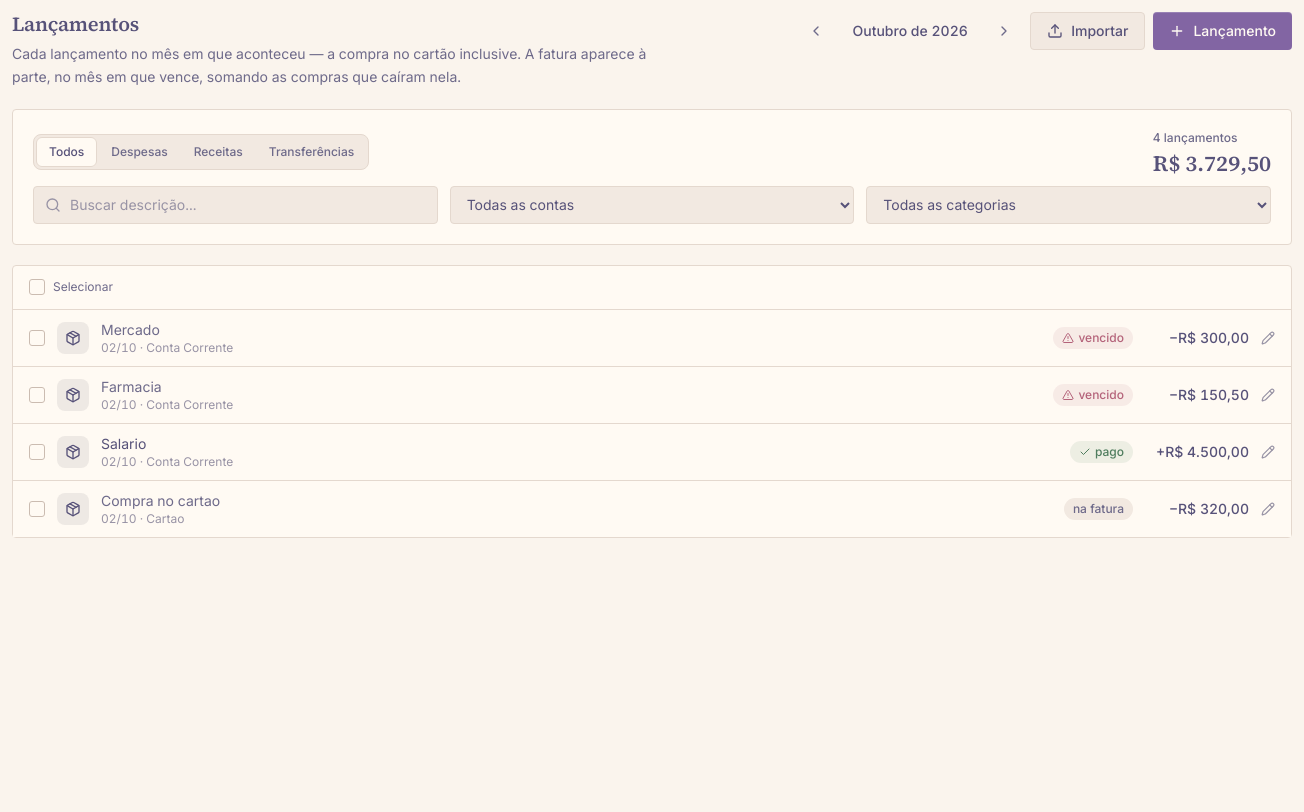
Test case: seleção de lançamentos › compra no cartão em aberto fica de fora, e a tela diz isso
Click the checkbox named "Selecionar Compra no cartao, 02/10, R$ 320,00" at (37, 508), box [29,500,45,516]
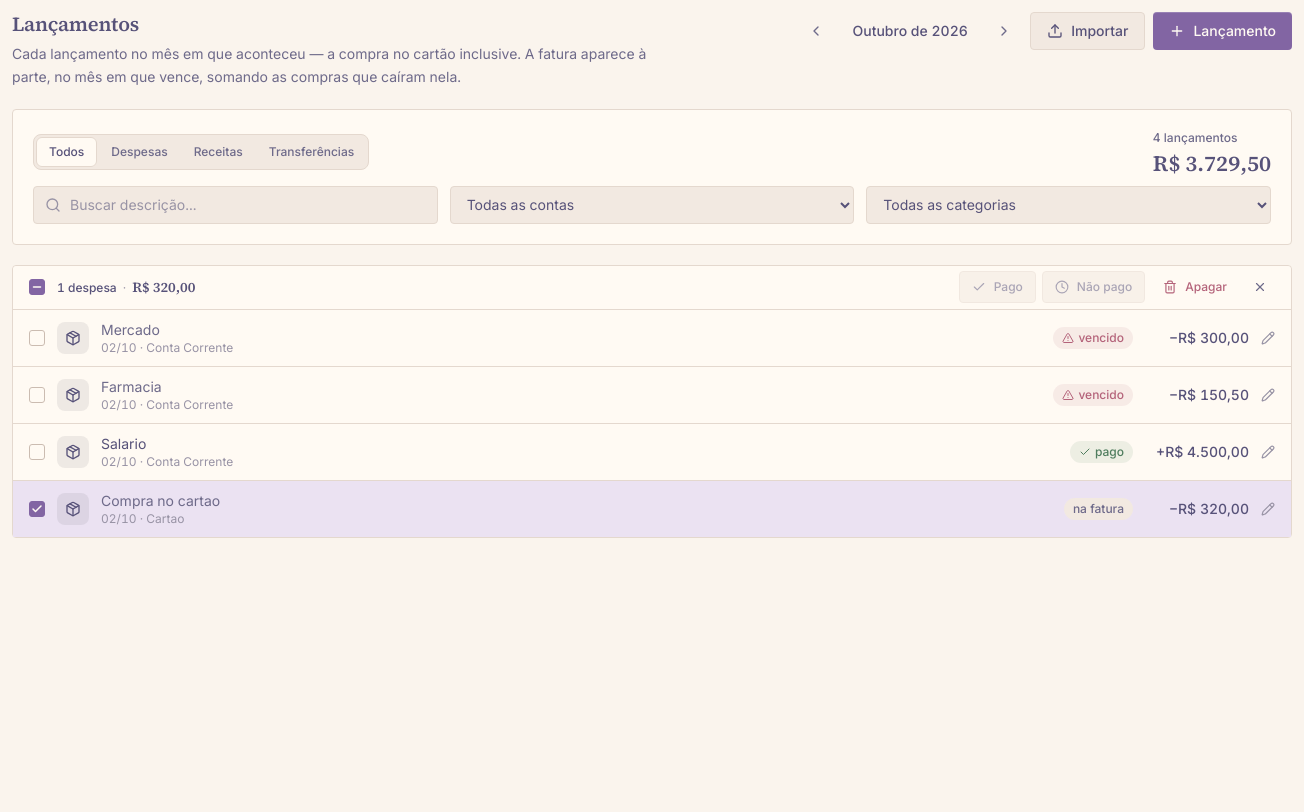
Result: the button with aria-label "Marcar como pago" is disabled at [959,271,1036,303]
Click the checkbox named "Selecionar Mercado, " at (37, 338), box [29,330,45,346]
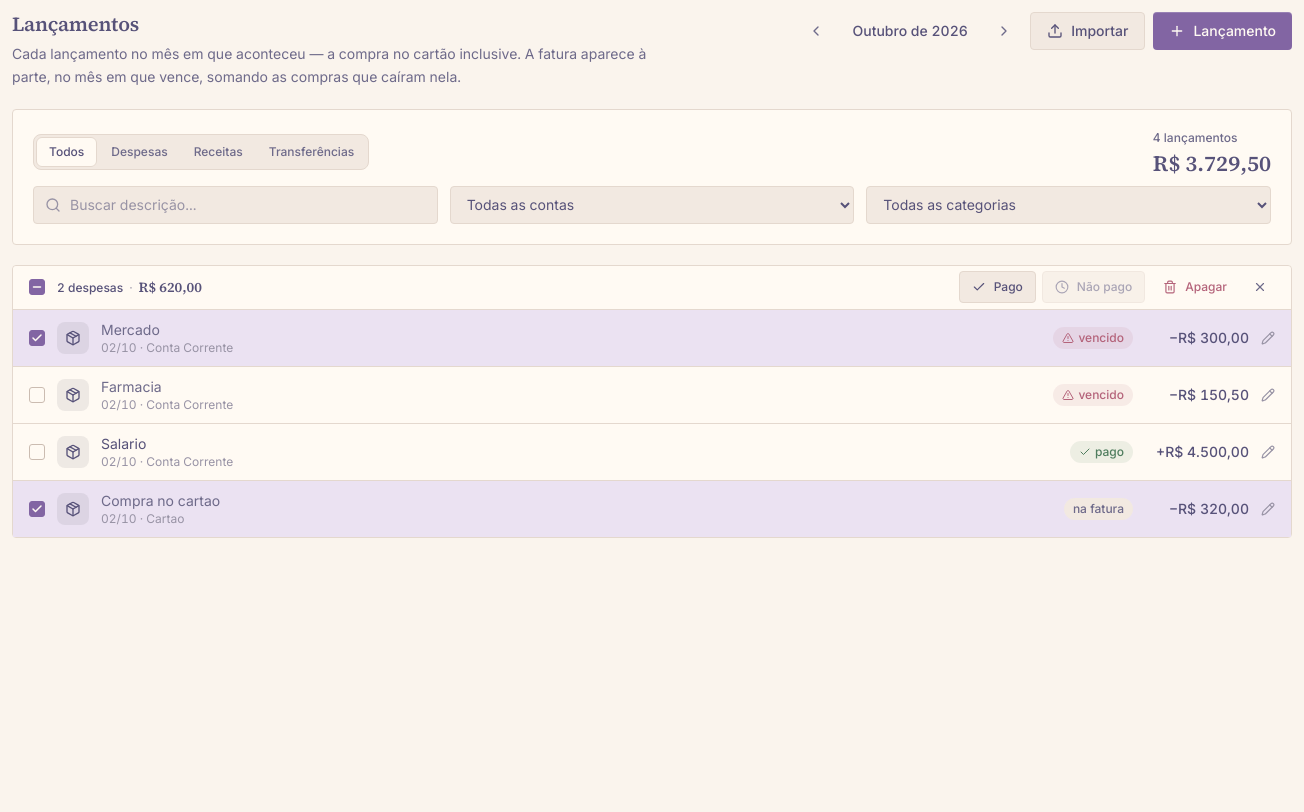
Click the button with aria-label "Marcar como pago" at (997, 287), box [959,271,1036,303]
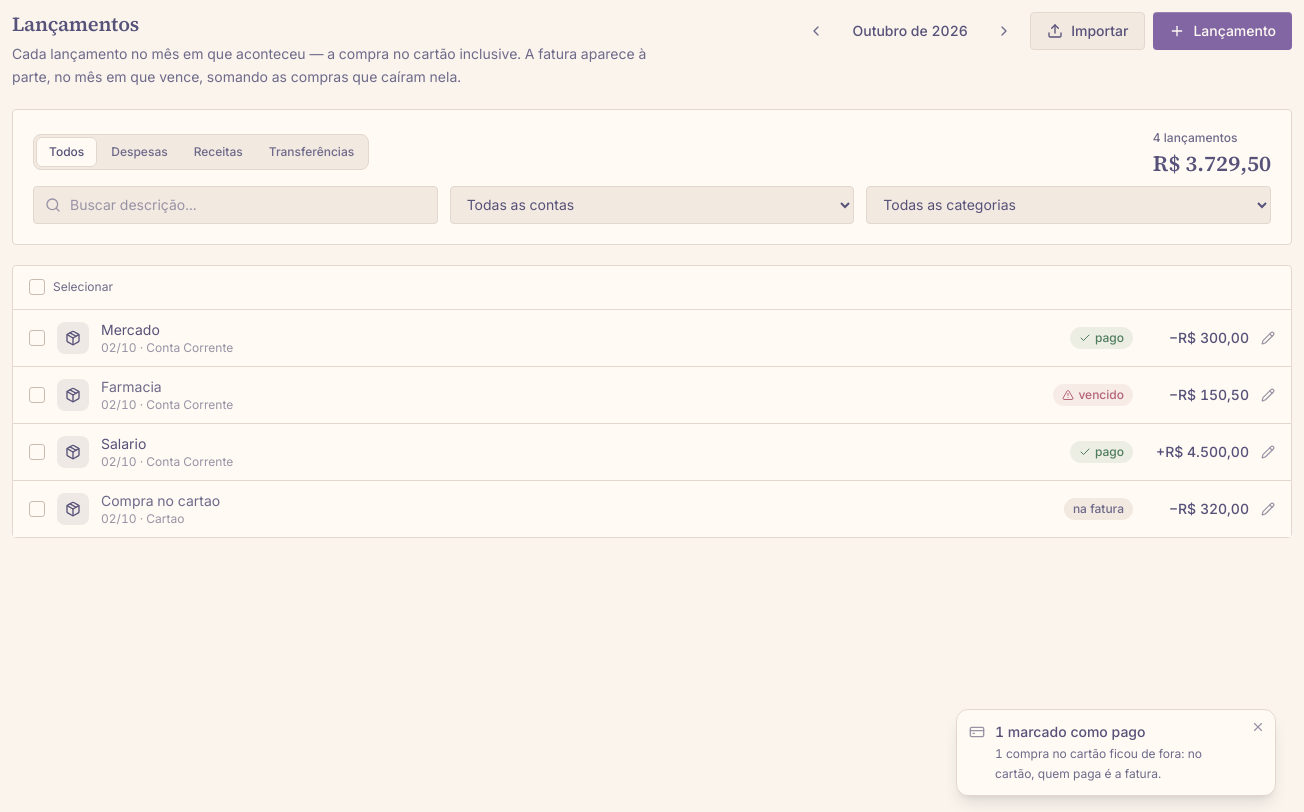
Result: the text "compra no cartão ficou de fora" is shown at [995,746,1202,780]
